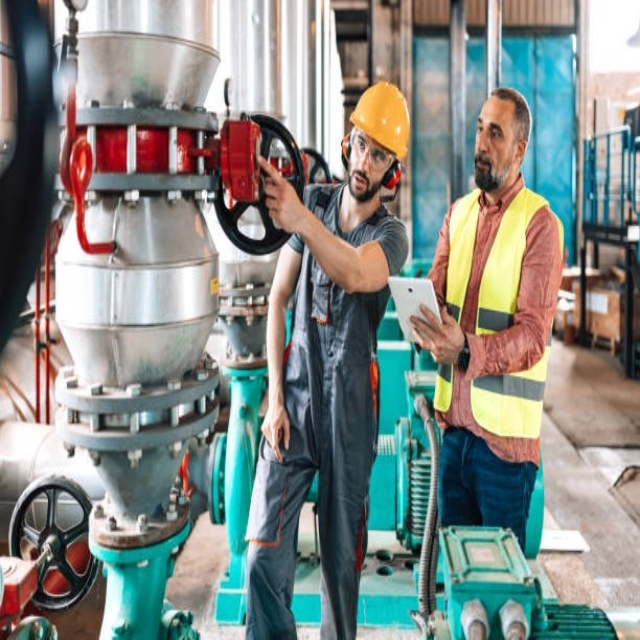Gafas: (350, 131, 393, 170)
Sin_gafas: (473, 111, 512, 141)
Sin_guantes: (252, 151, 301, 237), (410, 302, 462, 366), (260, 394, 292, 459)
Sin_mascara: (475, 147, 494, 180), (350, 171, 367, 196)
